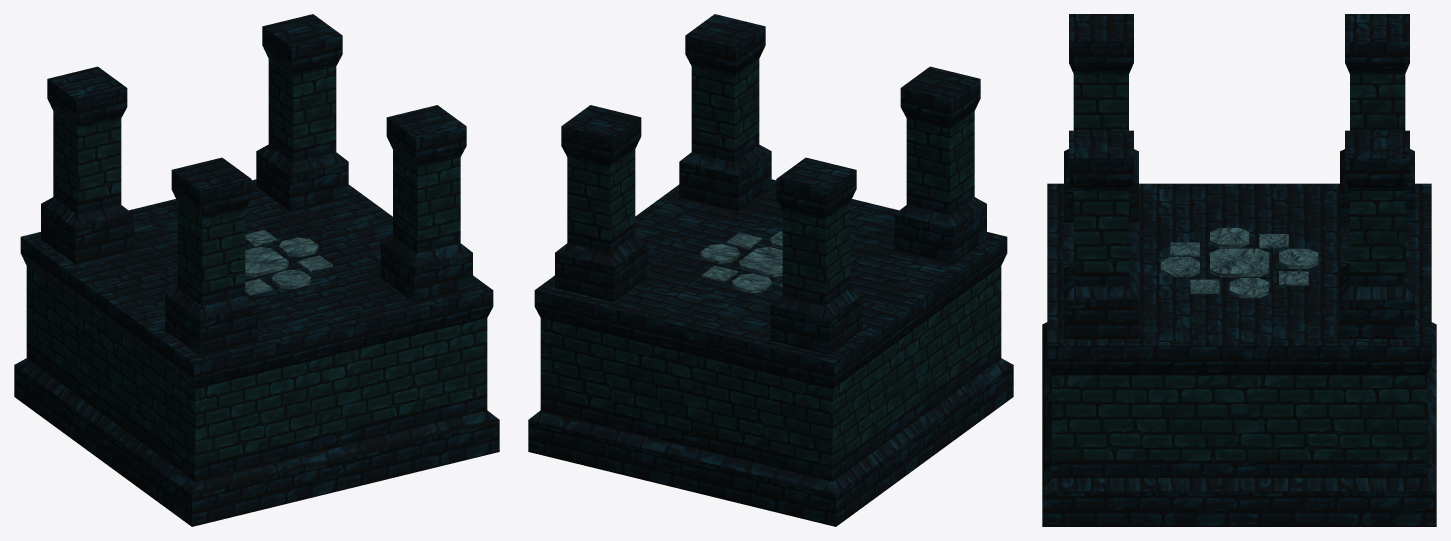
Rendered from dungeon-tile-markings.glb.
3 renders of one model, left to right at view 1: azimuth 30°, elevation 25°; view 2: azimuth 150°, elevation 25°; view 3: azimuth 270°, elevation 25°, orthographic. The views are drawn at different scales.
Parts seen in each view (by area): view 1: mergedBlocks(Clone); view 2: mergedBlocks(Clone); view 3: mergedBlocks(Clone).
Boxes of the visible parts, <box> form: mergedBlocks(Clone): <box>14,14,499,526</box>; mergedBlocks(Clone): <box>528,14,1013,526</box>; mergedBlocks(Clone): <box>1042,14,1436,526</box>.
Size of the model in its own units: 2 by 2 by 2.
3 materials, 3 textured.
